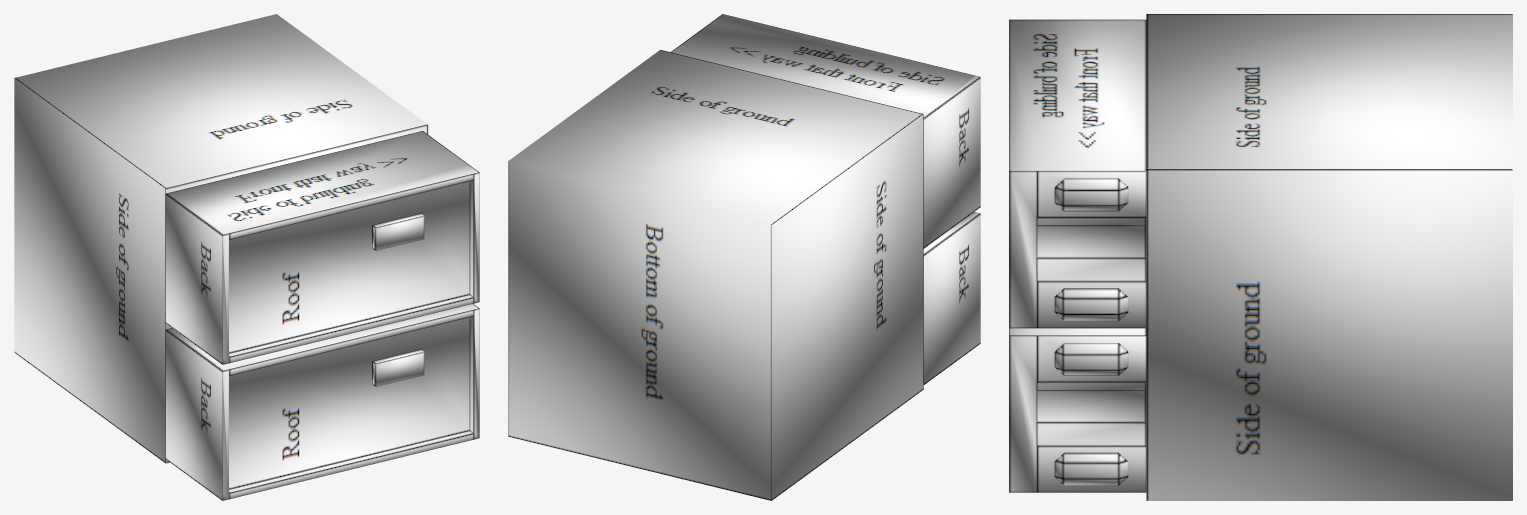
File: BuildingSmall.fbx
The picture shows the model from 3 angles, left to right: view 1: azimuth 30°, elevation 25°; view 2: azimuth 150°, elevation 25°; view 3: azimuth 270°, elevation 25°; orthographic projection. The views are drawn at different scales.
Parts seen in each view (by area): view 1: cube1; view 2: cube1; view 3: cube1.
Boxes of the visible parts, x1,y1,x2,y2 form: cube1: (14, 14, 479, 500); cube1: (508, 14, 980, 500); cube1: (1009, 14, 1512, 500).
Bounding box in the file's own units: 20 × 20 × 27.5.
Materials: 1 (1 with a texture image).
